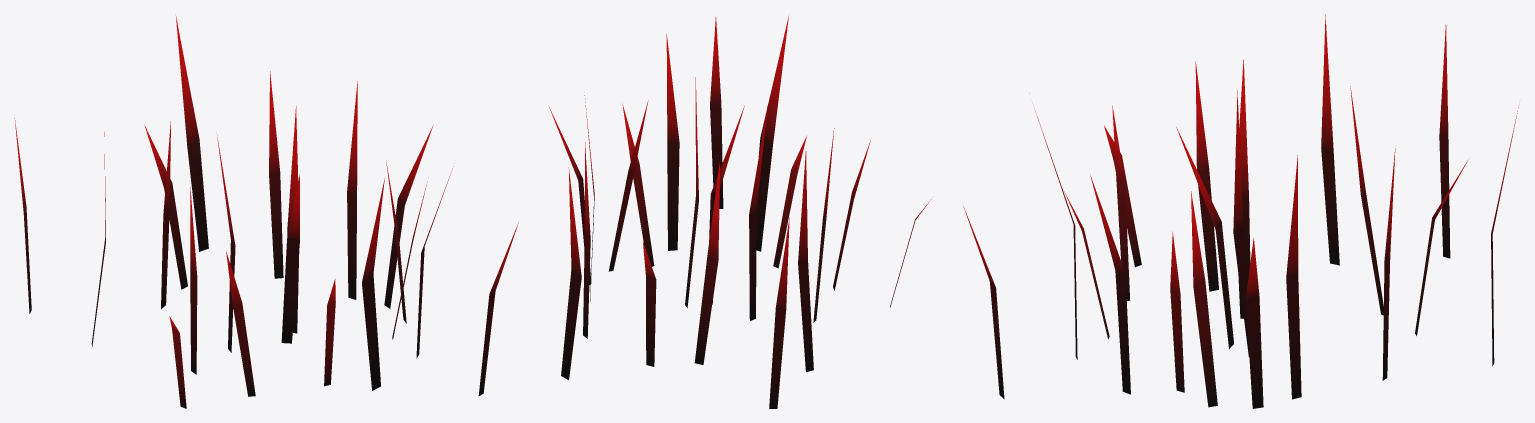
Rendered from PatchGrassTall01.fbx.
The picture shows the model from 3 angles, left to right: view 1: azimuth 30°, elevation 25°; view 2: azimuth 150°, elevation 25°; view 3: azimuth 270°, elevation 25°; orthographic projection. The views are drawn at different scales.
Parts seen in each view (by area): view 1: PatchGrassTall01_LOD0; view 2: PatchGrassTall01_LOD0; view 3: PatchGrassTall01_LOD0.
Part boxes in pixels (left/top/right/bottom): PatchGrassTall01_LOD0: left=14, top=16, right=518, bottom=408; PatchGrassTall01_LOD0: left=549, top=16, right=931, bottom=408; PatchGrassTall01_LOD0: left=963, top=14, right=1518, bottom=408.
Size of the model in its own units: 133 by 89.6 by 171.
